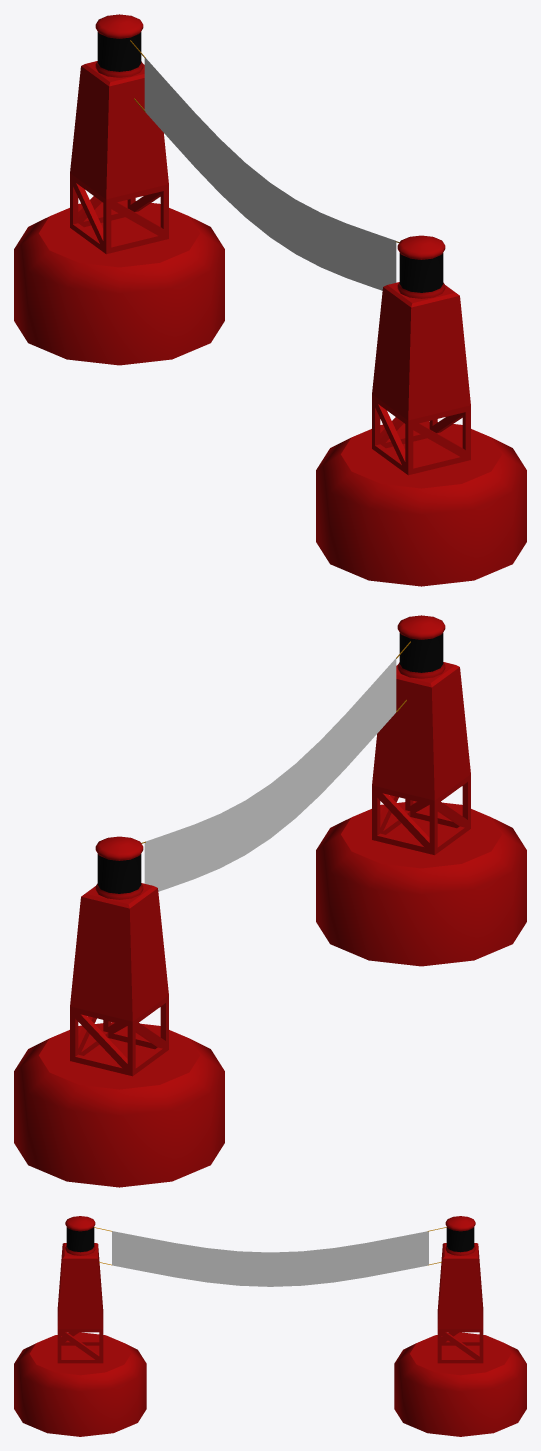
The model's file is Meta_barquitos.fbx.
3 renders of one model, top to bottom at view 1: azimuth 30°, elevation 25°; view 2: azimuth 150°, elevation 25°; view 3: azimuth 270°, elevation 25°, orthographic. The views are drawn at different scales.
Visible parts, largest first — view 1: pCylinder11; view 2: pCylinder11; view 3: pCylinder11.
Boxes of the visible parts, <box> form: pCylinder11: <box>14,14,526,586</box>; pCylinder11: <box>14,615,526,1187</box>; pCylinder11: <box>14,1216,526,1436</box>.
Bounding box in the file's own units: 3.49 × 5.51 × 13.49.
